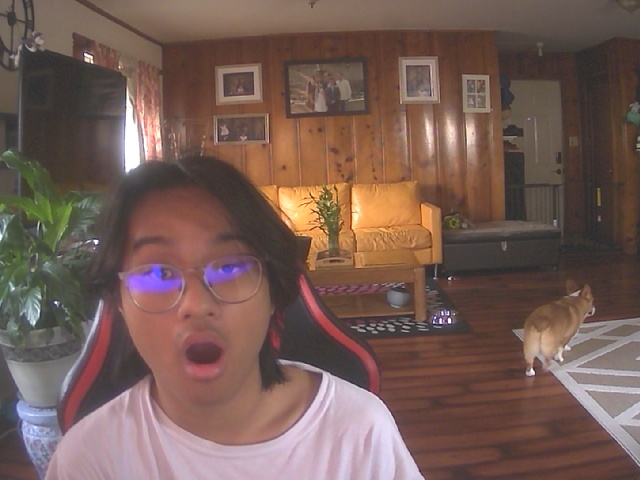fear: (104, 173, 282, 409)
